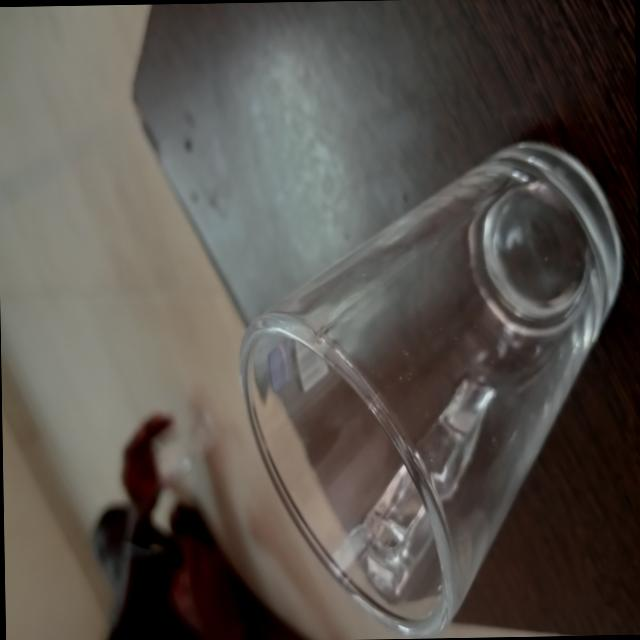glass-VX4N: (245, 334, 508, 636)
